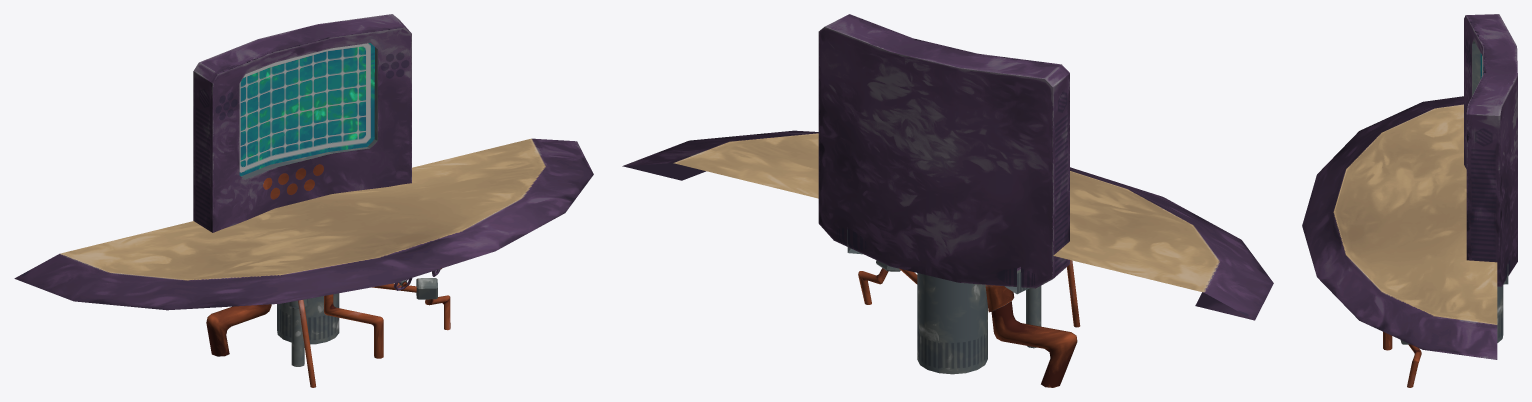
The model's file is WorkSlot_Centre.fbx.
3 renders of one model, left to right at view 1: azimuth 30°, elevation 25°; view 2: azimuth 150°, elevation 25°; view 3: azimuth 270°, elevation 25°, orthographic. The views are drawn at different scales.
Visible parts, largest first — view 1: WorkSlot_Centre; view 2: WorkSlot_Centre; view 3: WorkSlot_Centre.
Part boxes in pixels (x1,y1,x2,y2): WorkSlot_Centre: [14, 14, 593, 387]; WorkSlot_Centre: [622, 14, 1273, 387]; WorkSlot_Centre: [1302, 14, 1517, 387].
Bounding box in the file's own units: 21.49 × 10.3 × 7.3.
